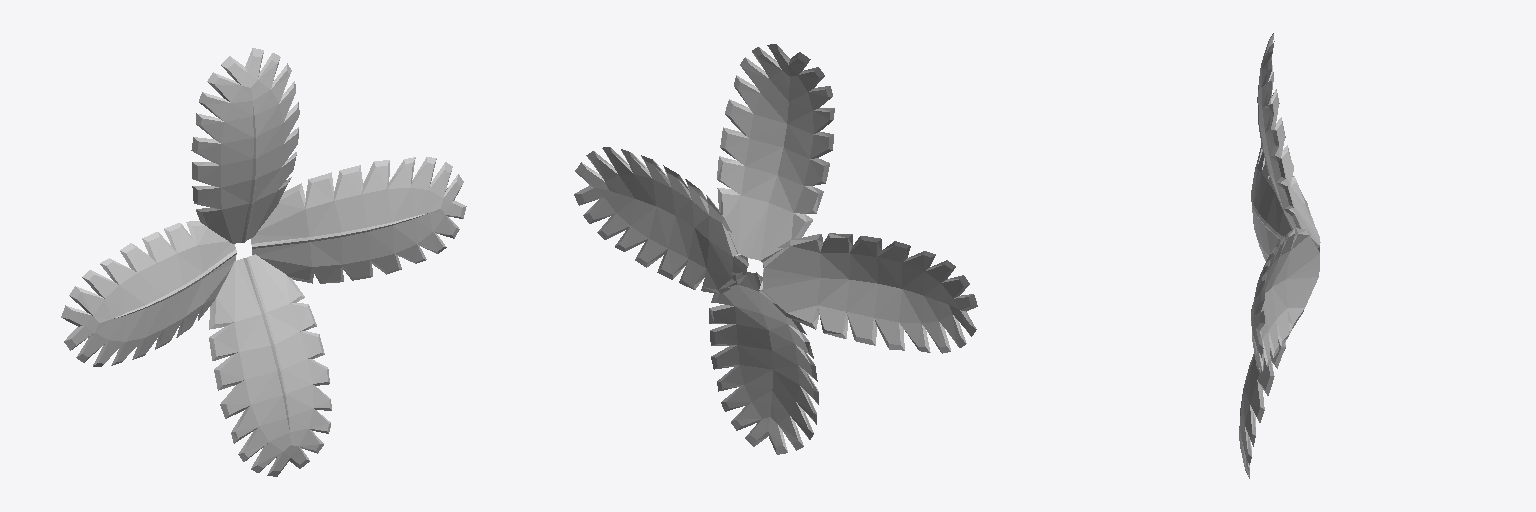
Rendered from leaves.obj.
3 renders of one model, left to right at view 1: azimuth 30°, elevation 25°; view 2: azimuth 150°, elevation 25°; view 3: azimuth 270°, elevation 25°, orthographic.
Visible parts, largest first — view 1: leaves; view 2: leaves; view 3: leaves.
Part boxes in pixels (bbox=[...]): leaves: bbox=[61, 48, 466, 476]; leaves: bbox=[574, 44, 977, 454]; leaves: bbox=[1239, 33, 1320, 478].
Bounding box in the file's own units: 54.49 × 54.4 × 9.45.